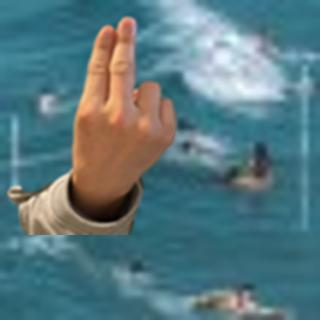DHAVE: (64, 13, 179, 197)
